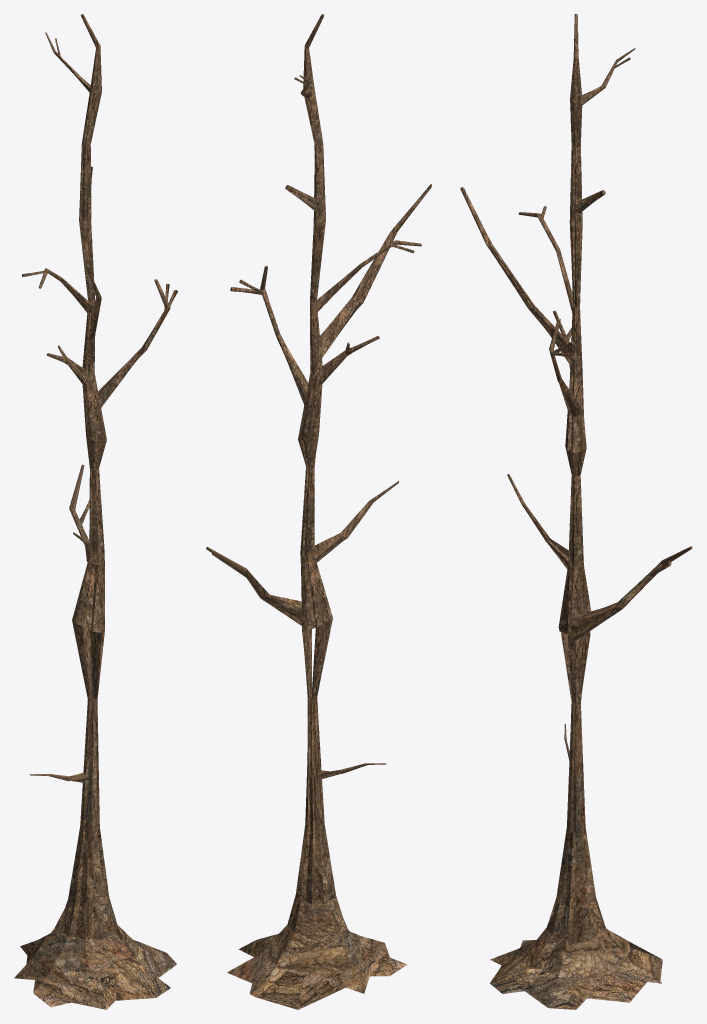
Rendered from trunk4.glb.
The picture shows the model from 3 angles, left to right: view 1: azimuth 30°, elevation 25°; view 2: azimuth 150°, elevation 25°; view 3: azimuth 270°, elevation 25°; orthographic projection.
Parts seen in each view (by area): view 1: trunk4; view 2: trunk4; view 3: trunk4.
Boxes of the visible parts, x1,y1,x2,y2 form: trunk4: [14, 14, 177, 1009]; trunk4: [206, 14, 431, 1009]; trunk4: [460, 14, 692, 1009].
Size of what is drawn, in the model's own units: 14.95 by 81.49 by 17.81.
1 material, 1 textured.
